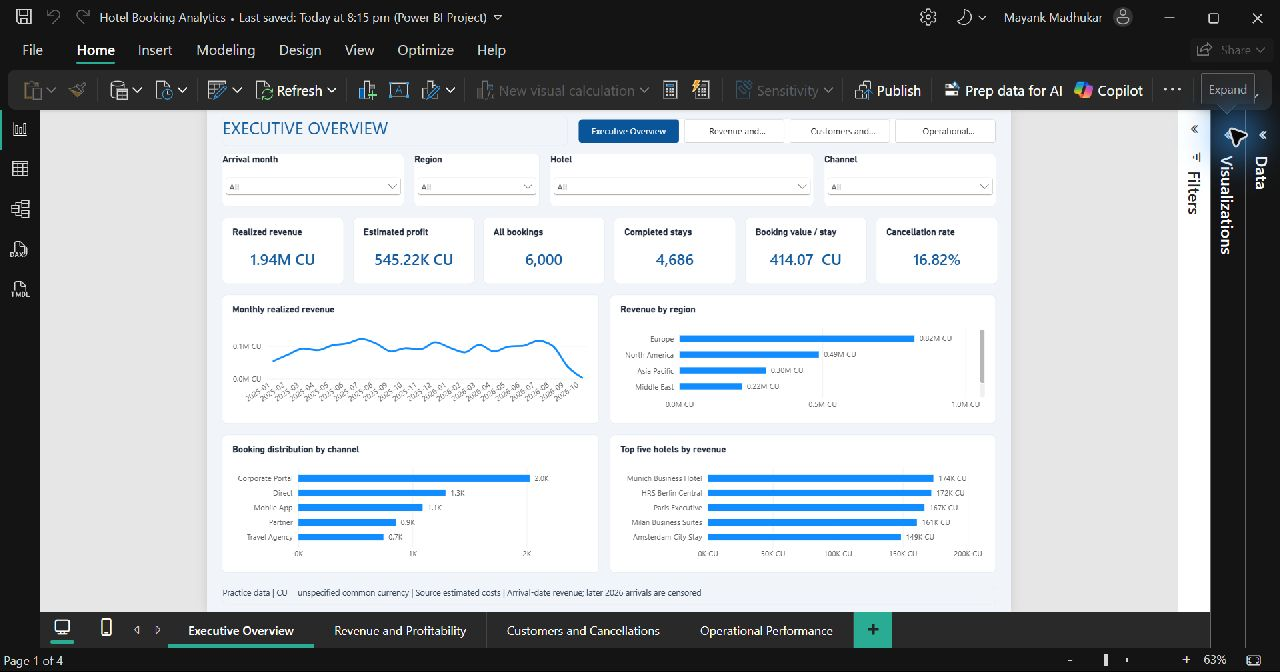

The dashboard page shown, as its layout file describes it:
{"tool":"powerbi","page":{"name":"Executive Overview","canvas":[1280,800],"ordinal":0},"visuals":[{"type":"textbox","title":"Header","box":[24,10,550,48],"z":124},{"type":"slicer","title":"Arrival month","fields":{"Values":["DimDate.year_month"]},"box":[24,70,290,84],"z":724},{"type":"pageNavigator","title":"Page navigation","box":[590,14,666,40],"z":730},{"type":"slicer","title":"Region","fields":{"Values":["DimHotels.region"]},"box":[330,70,200,84],"z":1030},{"type":"slicer","title":"Hotel","fields":{"Values":["DimHotels.hotel_name"]},"box":[546,70,420,84],"z":1246},{"type":"slicer","title":"Channel","fields":{"Values":["DimChannels.channel_name"]},"box":[982,70,274,84],"z":1682},{"type":"card","title":"Realized revenue","fields":{"Values":["FactBookings.Total Revenue"]},"box":[24,172,194,105],"z":1744},{"type":"card","title":"Estimated profit","fields":{"Values":["FactBookings.Total Profit"]},"box":[232,172,194,105],"z":1952},{"type":"card","title":"All bookings","fields":{"Values":["FactBookings.Total Bookings"]},"box":[440,172,194,105],"z":2160},{"type":"card","title":"Completed stays","fields":{"Values":["FactBookings.Completed Bookings"]},"box":[648,172,194,105],"z":2368},{"type":"card","title":"Booking value / stay","fields":{"Values":["FactBookings.Average Booking Value"]},"box":[856,172,194,105],"z":2576},{"type":"card","title":"Cancellation rate","fields":{"Values":["FactBookings.Cancellation Rate"]},"box":[1064,172,194,105],"z":2784},{"type":"lineChart","title":"Monthly realized revenue","fields":{"Category":["DimDate.year_month"],"Y":["FactBookings.Total Revenue"]},"box":[24,295,600,205],"z":2974},{"type":"clusteredBarChart","title":"Revenue by region","fields":{"Category":["DimHotels.region"],"Y":["FactBookings.Total Revenue"]},"box":[642,295,614,205],"z":3592},{"type":"clusteredBarChart","title":"Booking distribution by channel","fields":{"Category":["DimChannels.channel_name"],"Y":["FactBookings.Total Bookings"]},"box":[24,518,600,220],"z":5204},{"type":"clusteredBarChart","title":"Top five hotels by revenue","fields":{"Category":["DimHotels.hotel_name"],"Y":["FactBookings.Top Five Hotel Revenue"]},"box":[642,518,614,220],"z":5822},{"type":"textbox","title":"Source note","box":[24,758,1232,30],"z":7604}]}

Visuals, with their boxes on the page's 1280x800 design canvas (x1, y1, x2, y2). These are canvas units, not pixel positions in the 1280x672 screenshot, which may show the page scaled, cropped or inside an application window:
"Header" textbox: [x1=24, y1=10, x2=574, y2=58]
"Arrival month" slicer: [x1=24, y1=70, x2=314, y2=154]
"Page navigation" pageNavigator: [x1=590, y1=14, x2=1256, y2=54]
"Region" slicer: [x1=330, y1=70, x2=530, y2=154]
"Hotel" slicer: [x1=546, y1=70, x2=966, y2=154]
"Channel" slicer: [x1=982, y1=70, x2=1256, y2=154]
"Realized revenue" card: [x1=24, y1=172, x2=218, y2=277]
"Estimated profit" card: [x1=232, y1=172, x2=426, y2=277]
"All bookings" card: [x1=440, y1=172, x2=634, y2=277]
"Completed stays" card: [x1=648, y1=172, x2=842, y2=277]
"Booking value / stay" card: [x1=856, y1=172, x2=1050, y2=277]
"Cancellation rate" card: [x1=1064, y1=172, x2=1258, y2=277]
"Monthly realized revenue" lineChart: [x1=24, y1=295, x2=624, y2=500]
"Revenue by region" clusteredBarChart: [x1=642, y1=295, x2=1256, y2=500]
"Booking distribution by channel" clusteredBarChart: [x1=24, y1=518, x2=624, y2=738]
"Top five hotels by revenue" clusteredBarChart: [x1=642, y1=518, x2=1256, y2=738]
"Source note" textbox: [x1=24, y1=758, x2=1256, y2=788]
